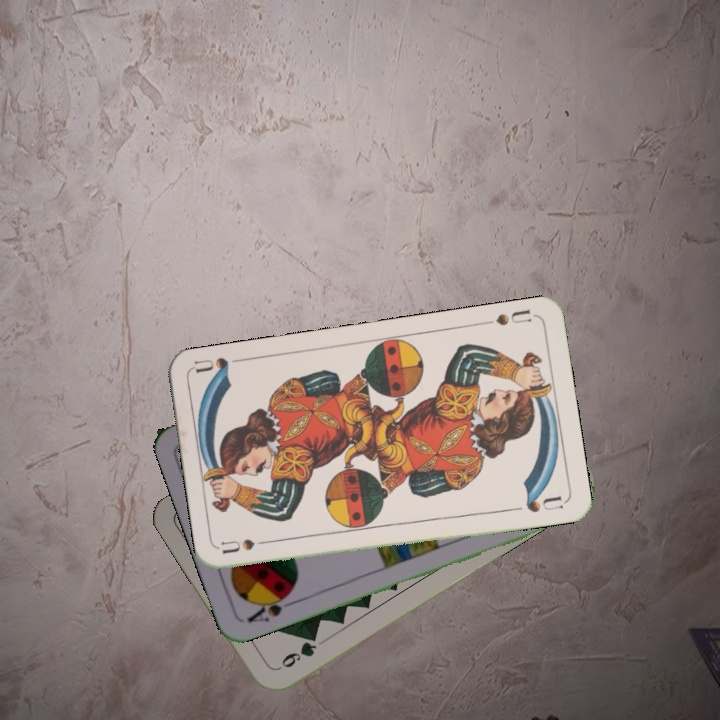G9: (273, 630, 320, 673)
SA: (243, 588, 298, 626)
SU: (218, 535, 278, 557), (491, 305, 534, 328)
